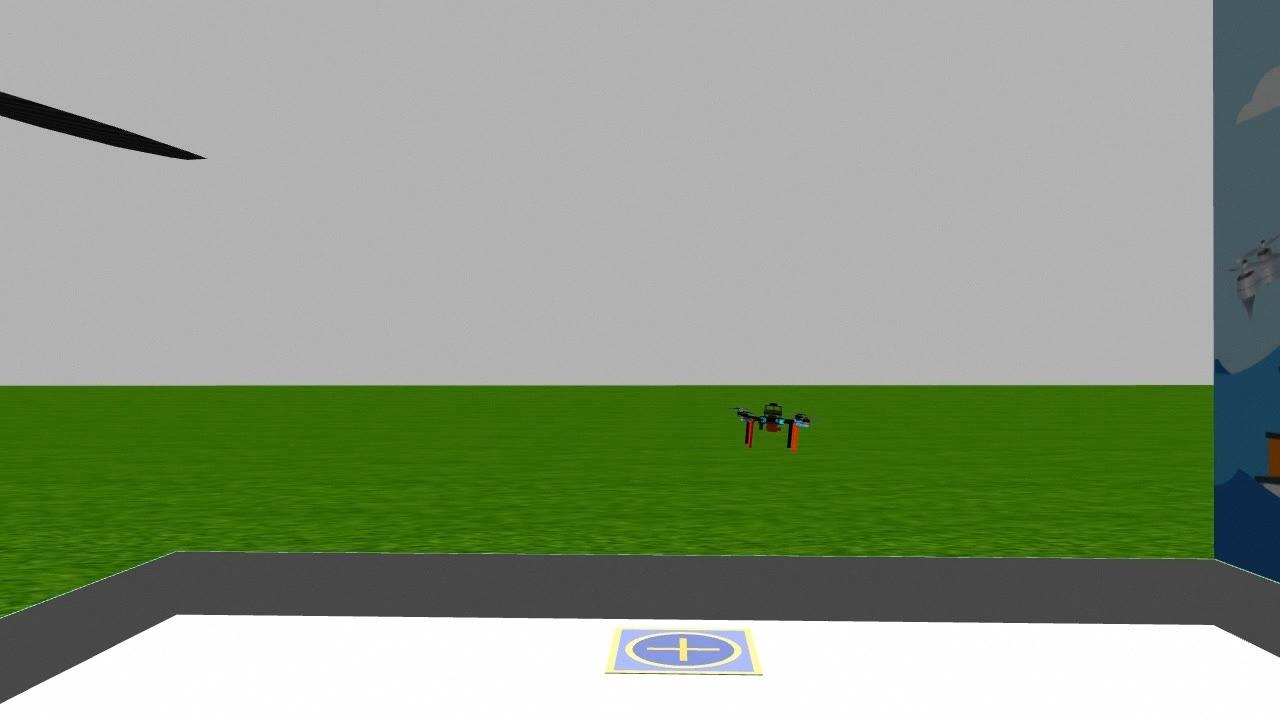UAV: (728, 396, 818, 456)
